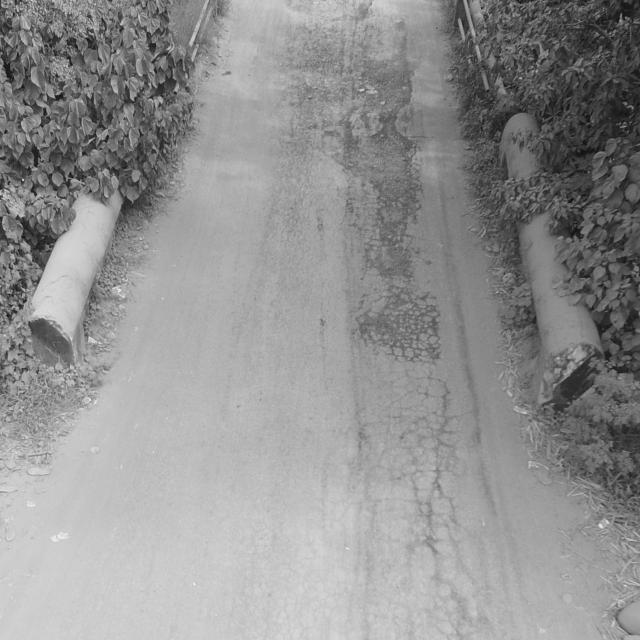BACHE: (332, 129, 414, 191), (340, 59, 411, 113)
PIEL DE COCODRILO: (220, 373, 493, 639), (339, 189, 442, 363), (271, 147, 329, 282)
